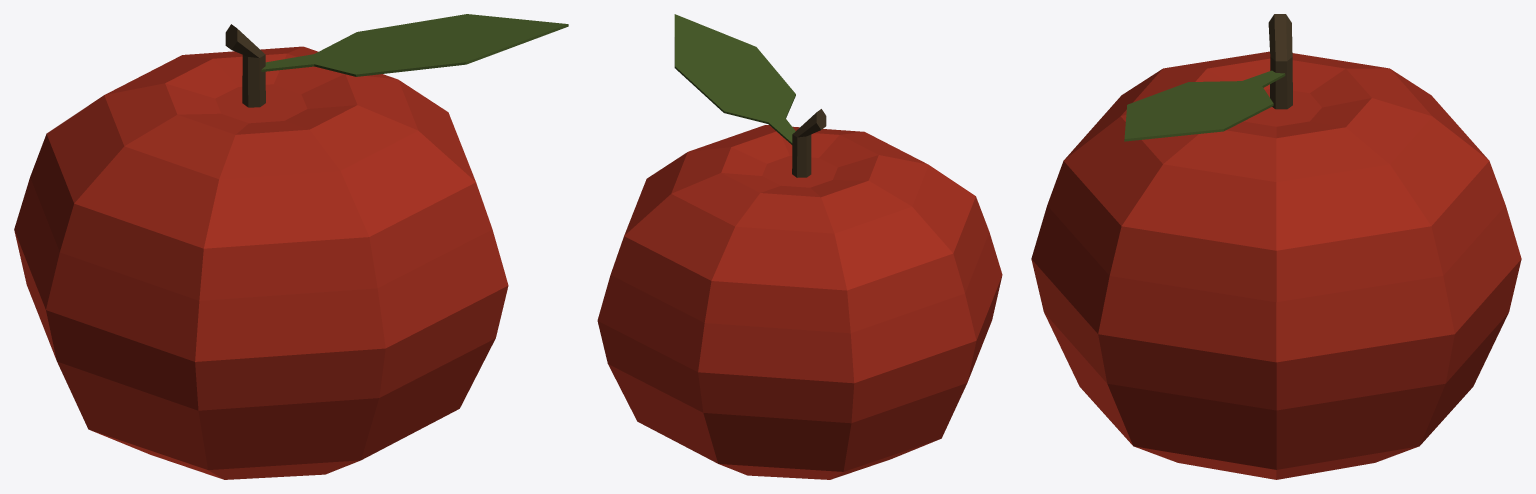
Rendered from Apple_1.fbx.
The picture shows the model from 3 angles, left to right: view 1: azimuth 30°, elevation 25°; view 2: azimuth 150°, elevation 25°; view 3: azimuth 270°, elevation 25°; orthographic projection. The views are drawn at different scales.
Parts seen in each view (by area): view 1: Apple_1; view 2: Apple_1; view 3: Apple_1.
Boxes of the visible parts, x1=… form: Apple_1: x1=14, y1=14, x2=568, y2=479; Apple_1: x1=597, y1=14, x2=1002, y2=479; Apple_1: x1=1031, y1=14, x2=1521, y2=479.
Size of the model in its own units: 26.31 by 23.74 by 25.43.
